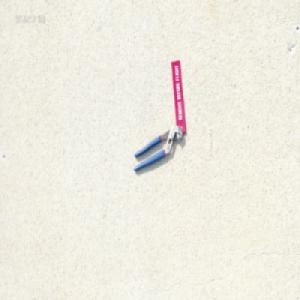Label: (170, 59, 186, 133)
Pliers: (133, 124, 183, 172)
